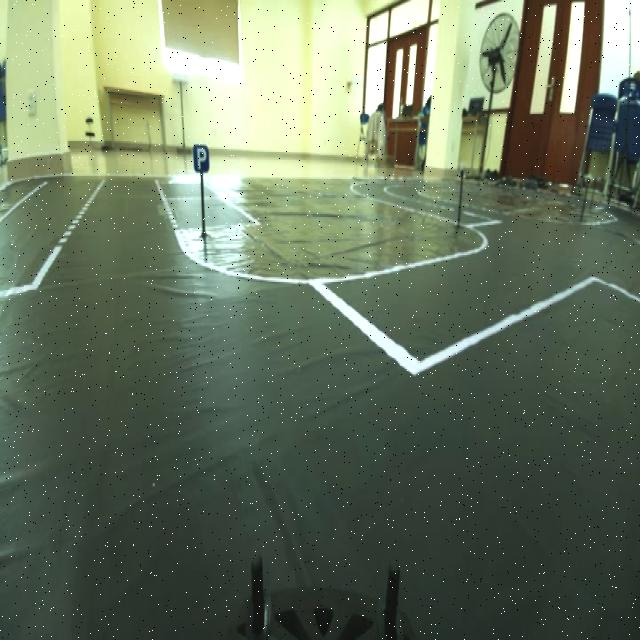parking: (191, 134, 211, 180)
